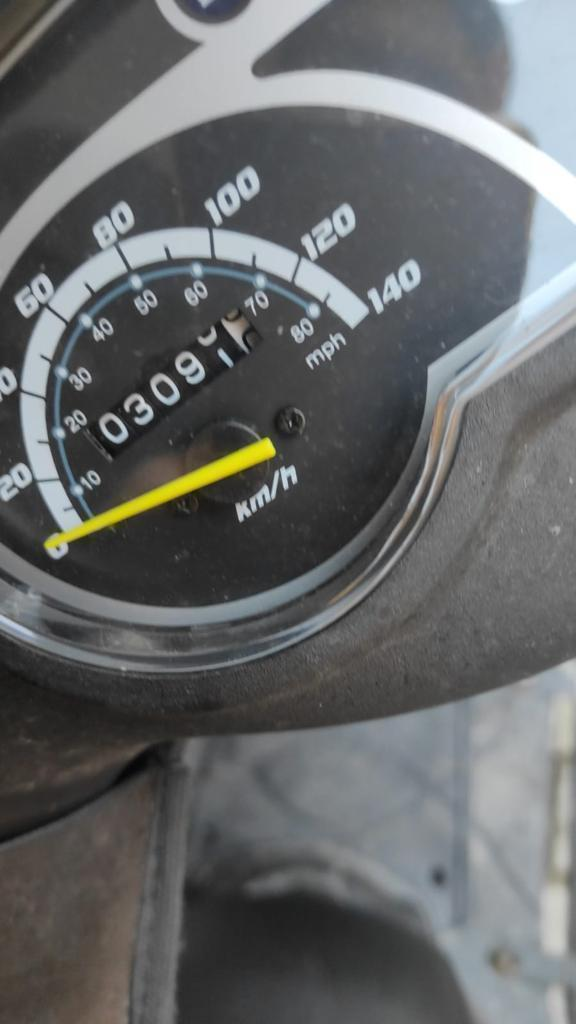0: (97, 410, 129, 445), (149, 371, 180, 407), (240, 325, 262, 351), (77, 367, 92, 384), (99, 318, 114, 335)
1: (216, 345, 235, 368)
3: (122, 391, 153, 426)
4: (91, 324, 104, 343)
9: (173, 349, 206, 384)
odometer: (75, 302, 266, 464)
